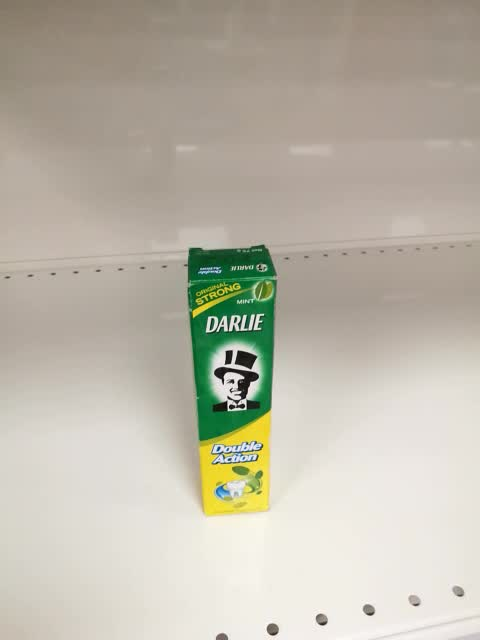toothpaste: (187, 244, 279, 521)
